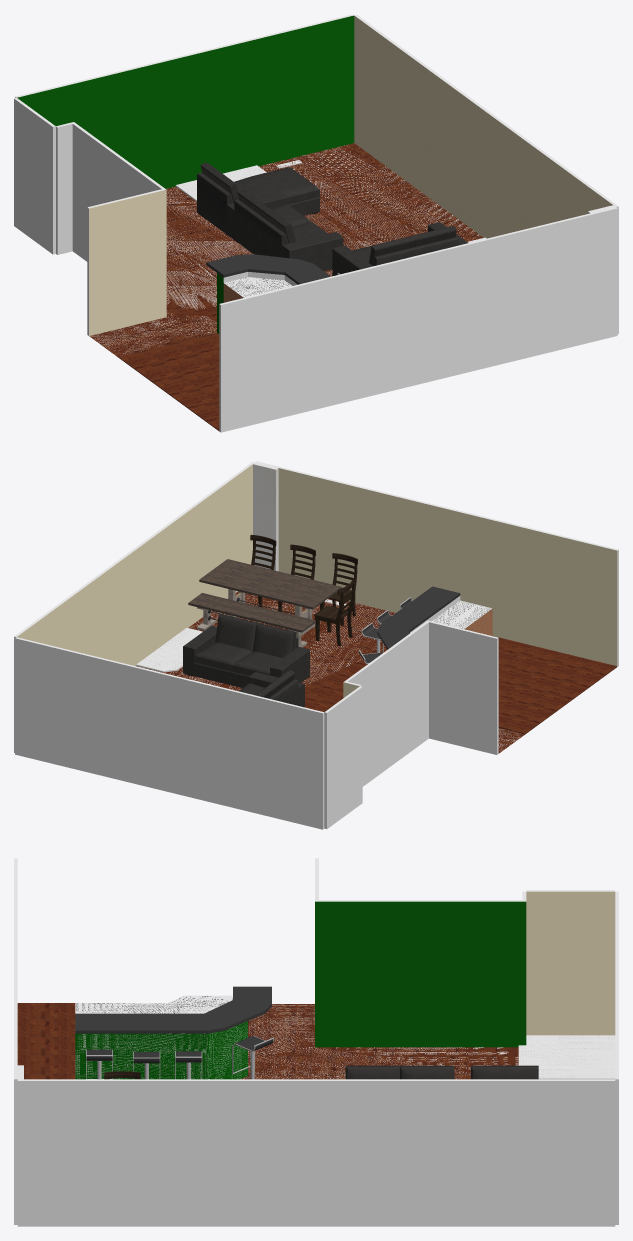
Rendered from dining.dae.
3 renders of one model, top to bottom at view 1: azimuth 30°, elevation 25°; view 2: azimuth 150°, elevation 25°; view 3: azimuth 270°, elevation 25°, orthographic. The views are drawn at different scales.
Visible parts, largest first — view 1: SketchUp (×8), _KIVIK_two_seat_sofa (×2), _KIVIK_chaise_longue; view 2: SketchUp (×6), _KIVIK_two_seat_sofa (×2), table_top_slat (×4), bench_top_slat (×2); view 3: SketchUp (×8), _KIVIK_two_seat_sofa, _KIVIK_chaise_longue.
Boxes of the visible parts, x1=… form: SketchUp (×8): x1=14, y1=14, x2=618, y2=432; _KIVIK_two_seat_sofa (×2): x1=227, y1=189, x2=468, y2=276; _KIVIK_chaise_longue: x1=197, y1=162, x2=319, y2=234; SketchUp (×6): x1=14, y1=461, x2=618, y2=829; _KIVIK_two_seat_sofa (×2): x1=183, y1=614, x2=309, y2=707; table_top_slat (×4): x1=199, y1=559, x2=341, y2=609; bench_top_slat (×2): x1=188, y1=593, x2=315, y2=632; SketchUp (×8): x1=14, y1=858, x2=618, y2=1226; _KIVIK_two_seat_sofa: x1=345, y1=1065, x2=454, y2=1079; _KIVIK_chaise_longue: x1=471, y1=1065, x2=538, y2=1079.
Size of the model in its own units: 275 by 316 by 84.
Materials: 16 (7 with a texture image).
